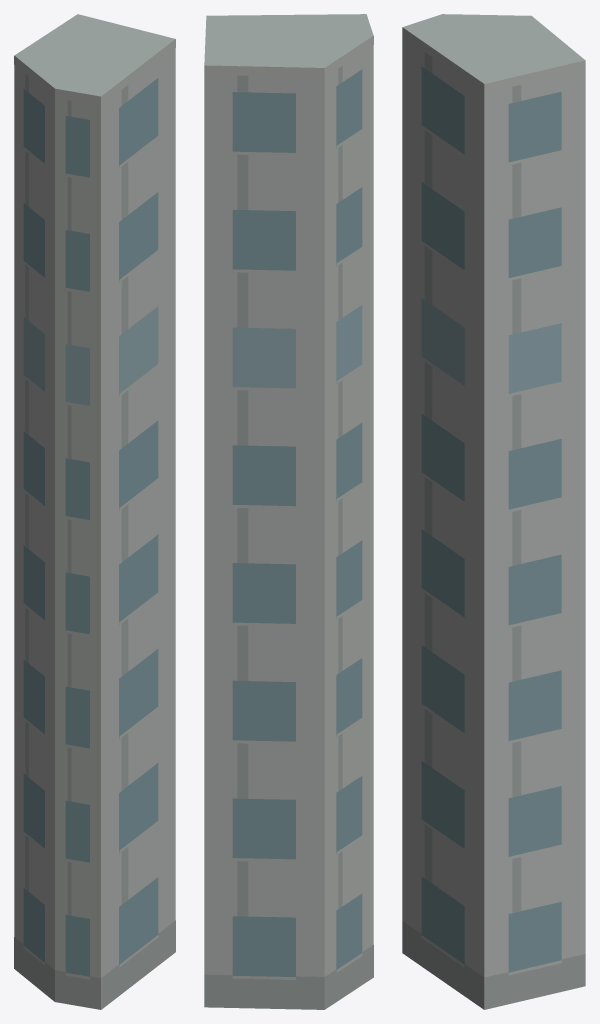
File: survey-upis-32988712.glb
3 renders of one model, left to right at view 1: azimuth 30°, elevation 25°; view 2: azimuth 150°, elevation 25°; view 3: azimuth 270°, elevation 25°, orthographic. The views are drawn at different scales.
Visible parts, largest first — view 1: survey-upis-32988712.tmp; view 2: survey-upis-32988712.tmp; view 3: survey-upis-32988712.tmp.
Boxes of the visible parts, left/top/right/bottom form: survey-upis-32988712.tmp: left=14, top=14, right=175, bottom=1009; survey-upis-32988712.tmp: left=204, top=14, right=373, bottom=1009; survey-upis-32988712.tmp: left=402, top=14, right=585, bottom=1009.
Bounding box in the file's own units: 3.97 × 24.4 × 4.39.
